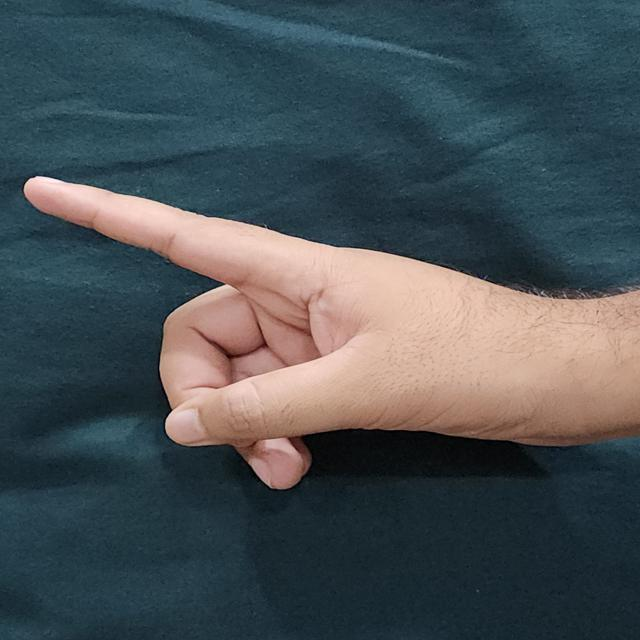ت: (21, 168, 640, 508)
